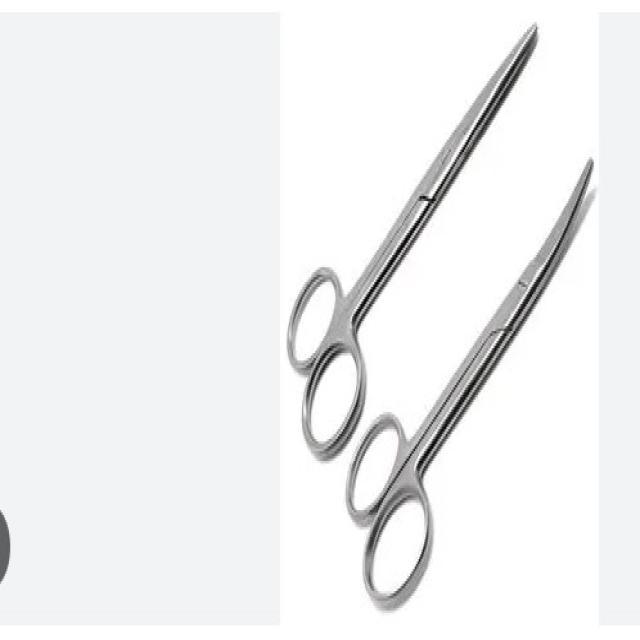Curved Mayo: (352, 158, 597, 631)
Straight Mayo: (294, 4, 546, 462)
